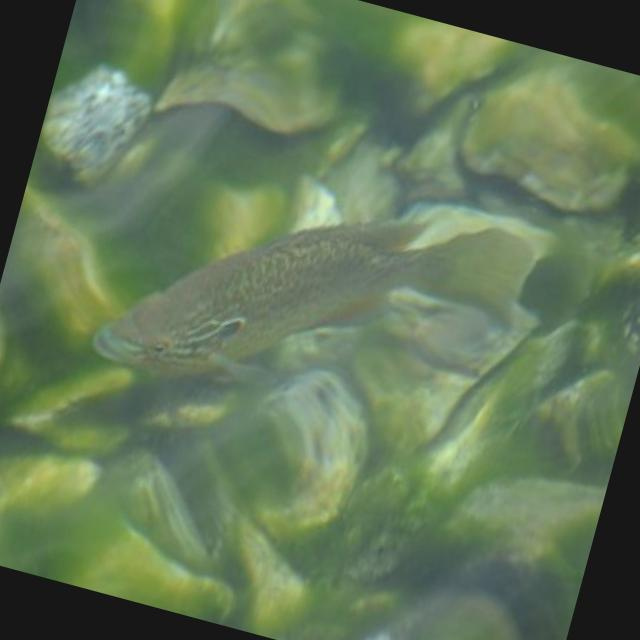Gunes Levregi: (87, 128, 539, 464)
